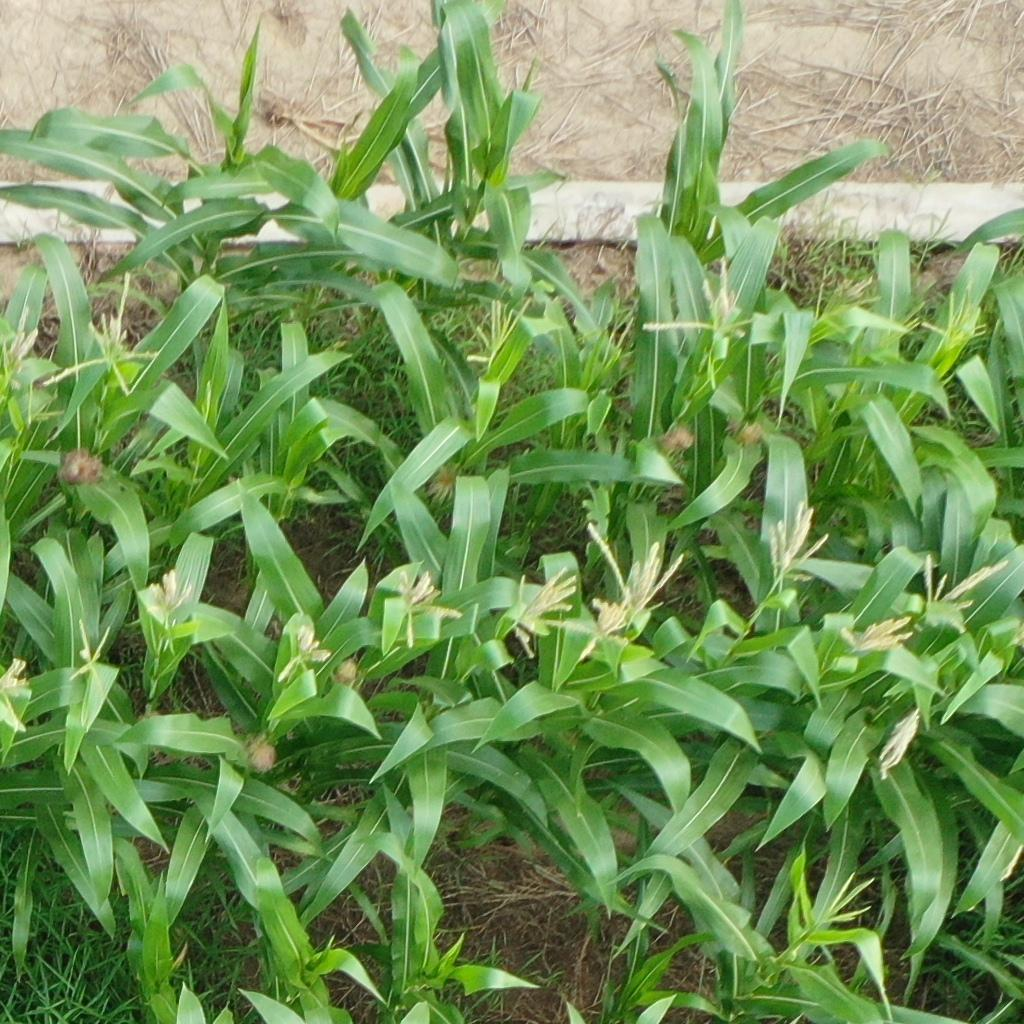Tassel: (640, 254, 762, 392), (41, 267, 159, 400), (587, 518, 685, 620), (509, 559, 582, 659), (917, 551, 1012, 616), (391, 568, 466, 650), (767, 499, 834, 586), (812, 261, 885, 335), (563, 590, 636, 661), (471, 293, 534, 373), (920, 283, 993, 347), (873, 702, 925, 782), (277, 622, 331, 687), (142, 569, 196, 634), (821, 870, 880, 929), (837, 613, 914, 656), (68, 617, 113, 690), (1, 304, 41, 386), (1, 653, 34, 735), (596, 312, 636, 371), (886, 298, 926, 346), (199, 376, 215, 424), (1003, 622, 1024, 655)
